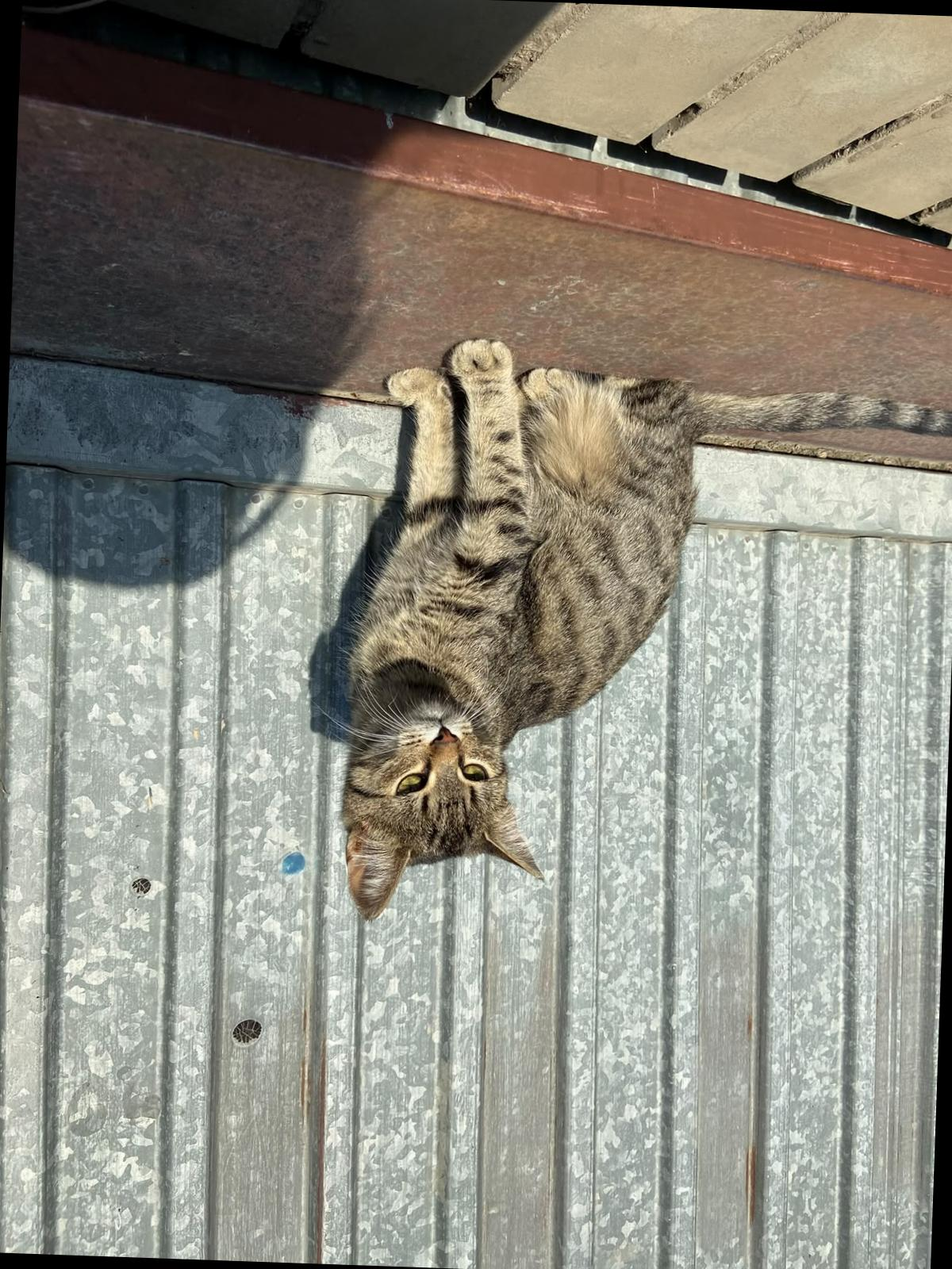macka: (336, 339, 952, 942)
